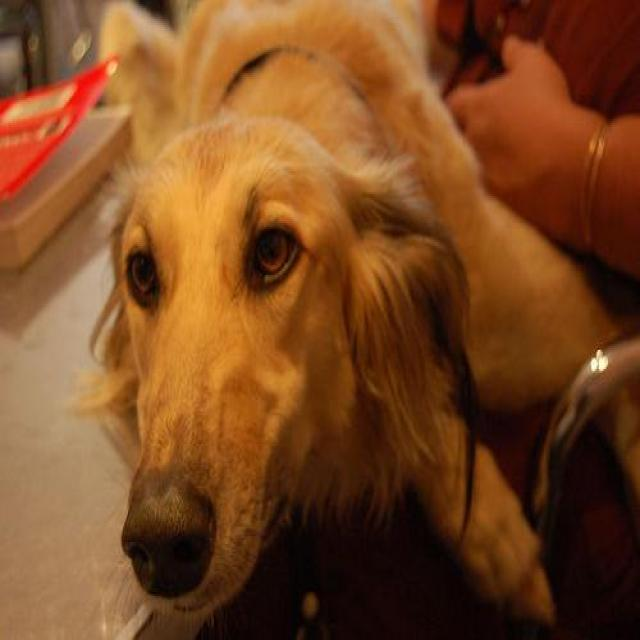saluki: (69, 0, 639, 625)
